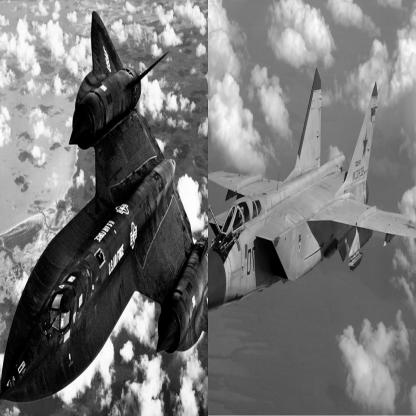Mig31: (209, 68, 416, 315)
SR71: (1, 12, 209, 405)
